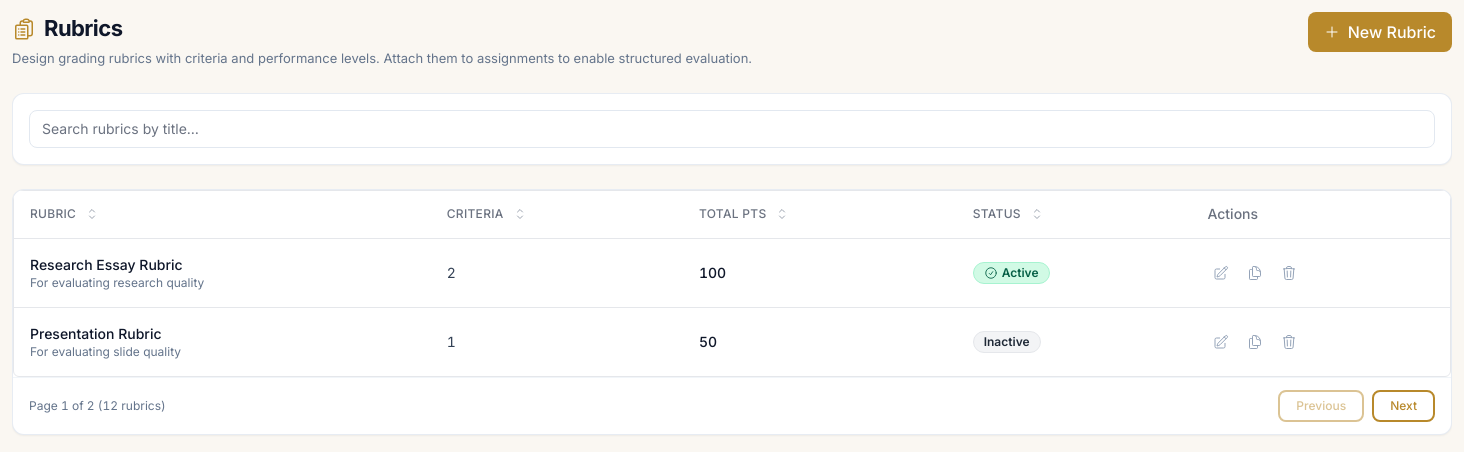
it: RubricPage › disables Next button on the last page
Click the button "Next": (1404, 406) [1372,390,1435,422]
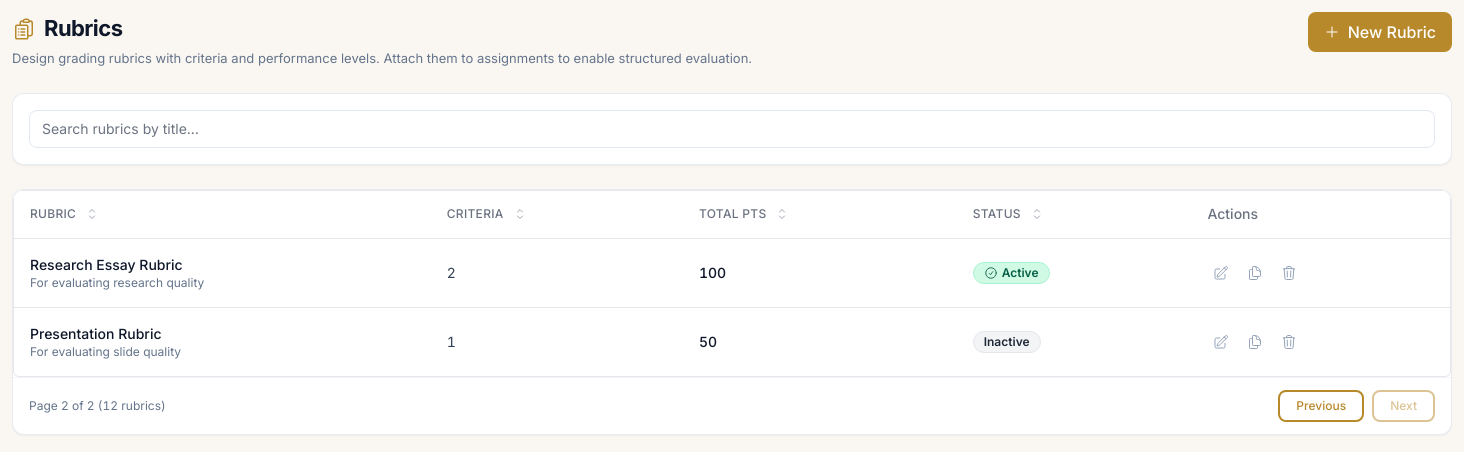
expect the button "Next" is disabled: met, box [1372,390,1435,422]
